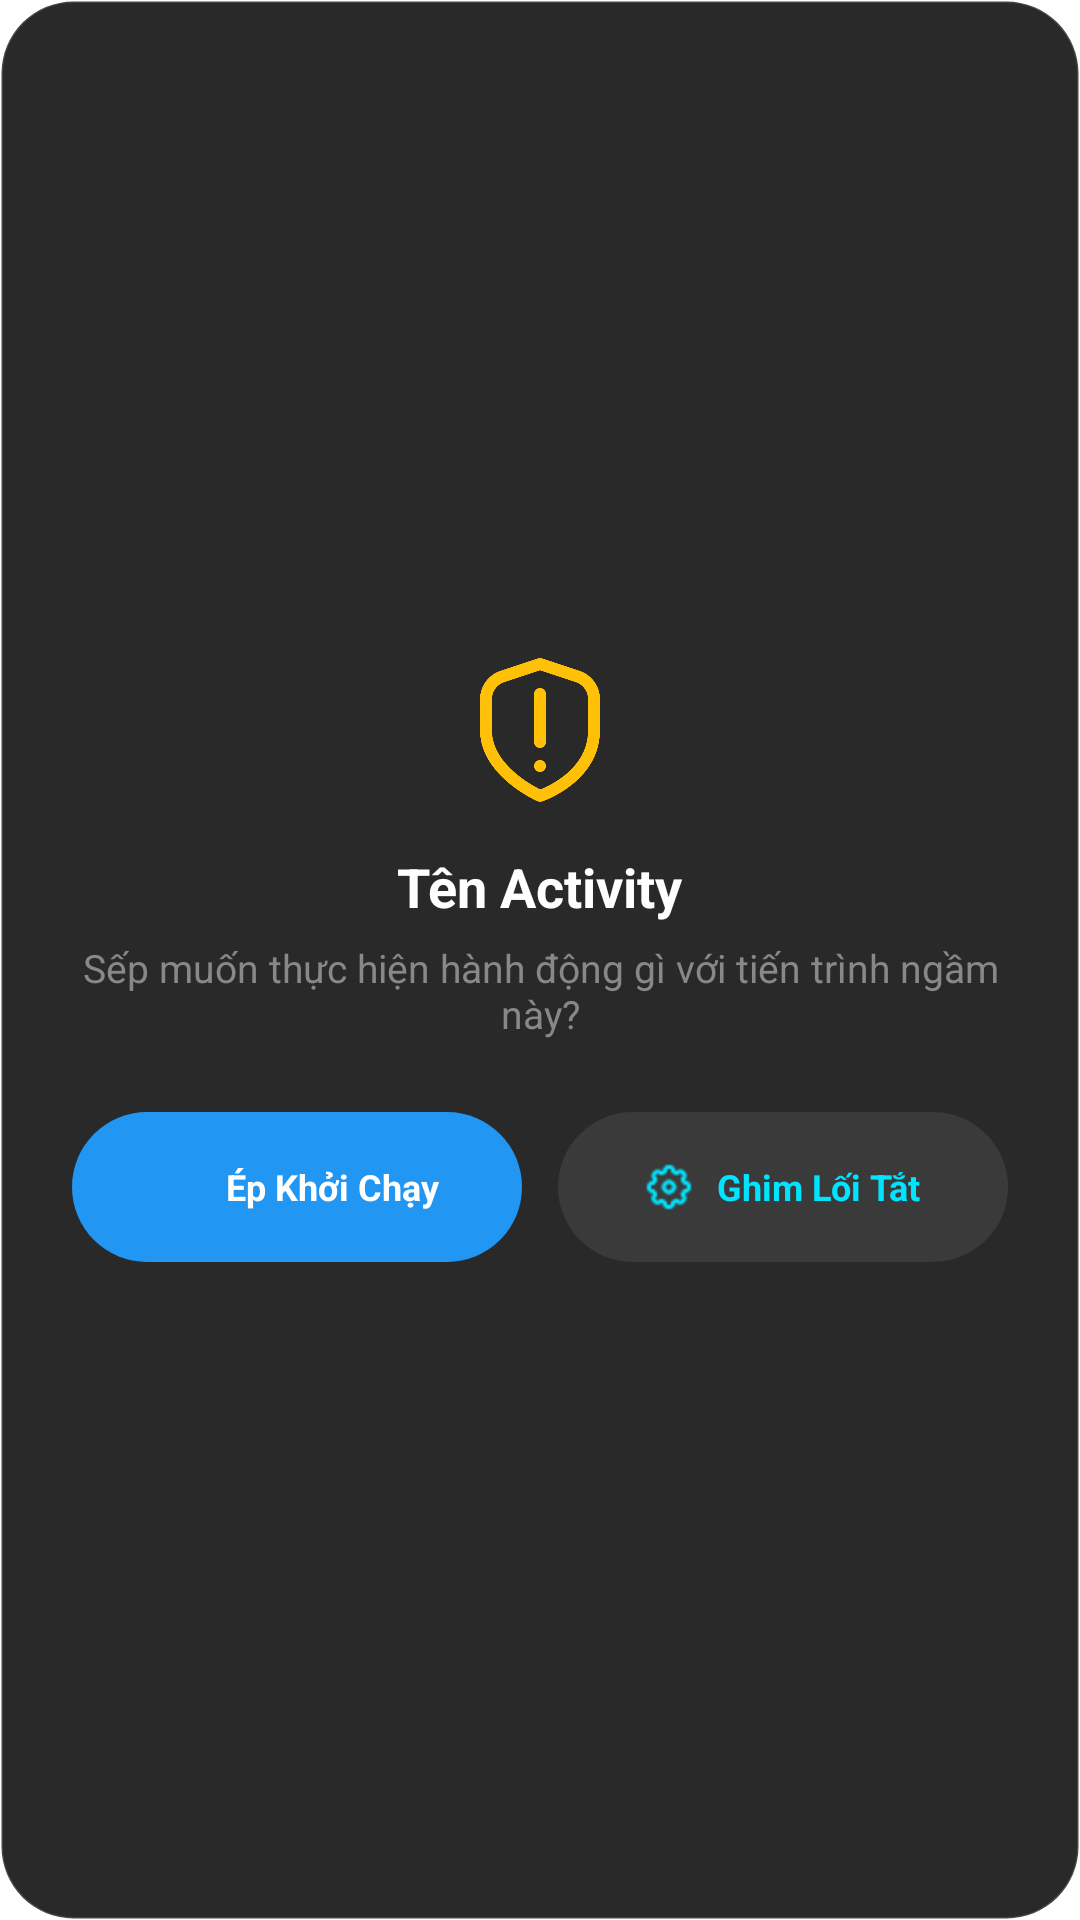

Where icons sit on this 1080*1920 app screen, as [x1=x1, y1=y1, x2=x2, y2=y2]:
dangerous: [x1=480, y1=658, x2=600, y2=802]
settings: [x1=646, y1=1164, x2=692, y2=1210]
